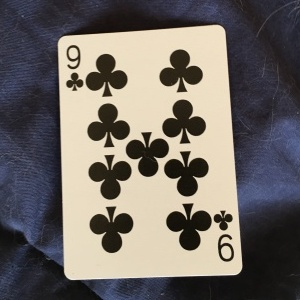card: (56, 21, 244, 279)
